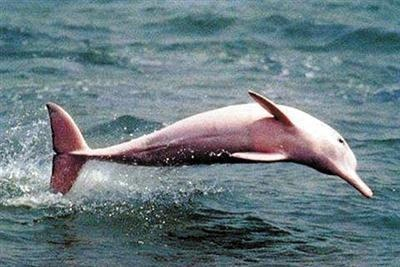fish: (42, 95, 373, 203)
